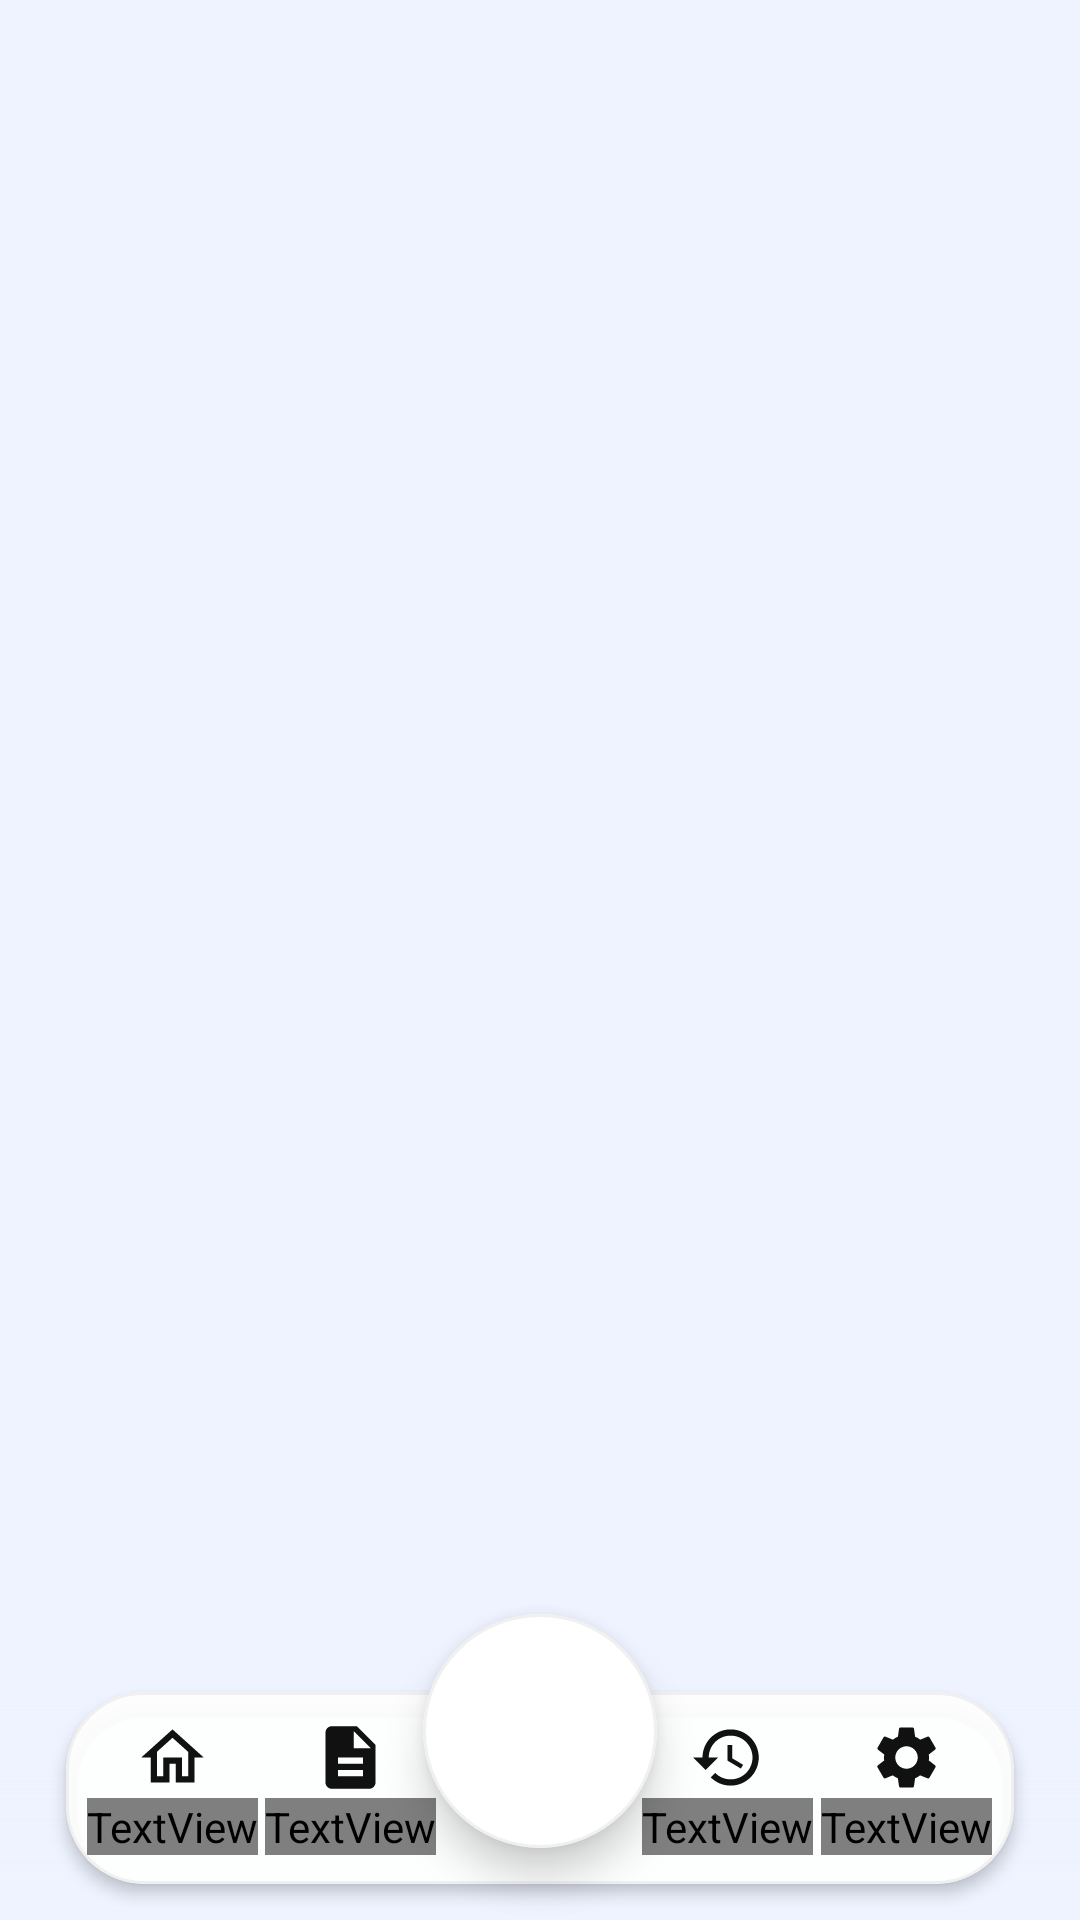

Icon bounding boxes for this 1080w x 1920h phone screenshot, format box=[x1, y1, x2, y2]:
History: box=[693, 1729, 759, 1786]
Home: box=[141, 1729, 204, 1783]
Notes: box=[325, 1726, 376, 1789]
Settings: box=[877, 1727, 936, 1788]
